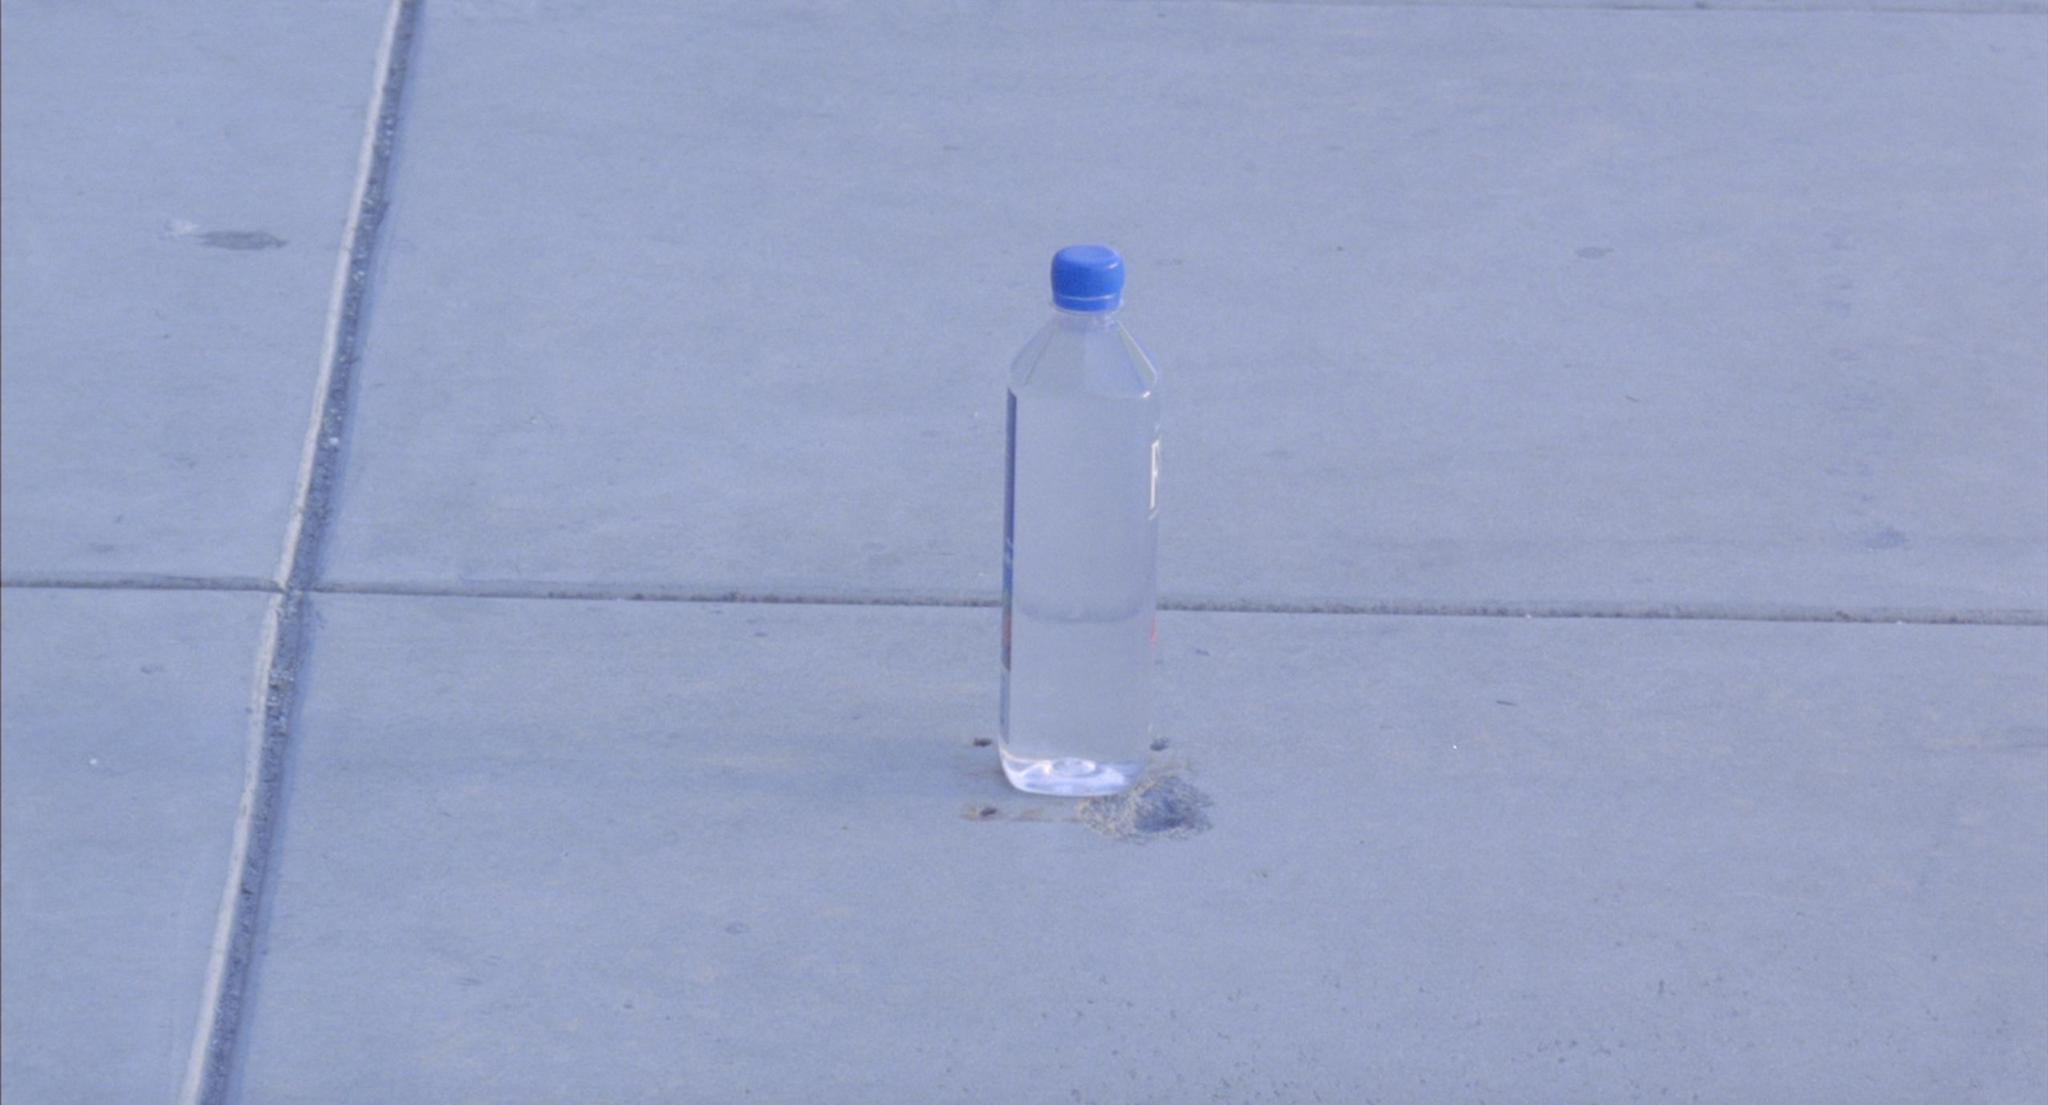bottle: (1021, 223, 1176, 831)
